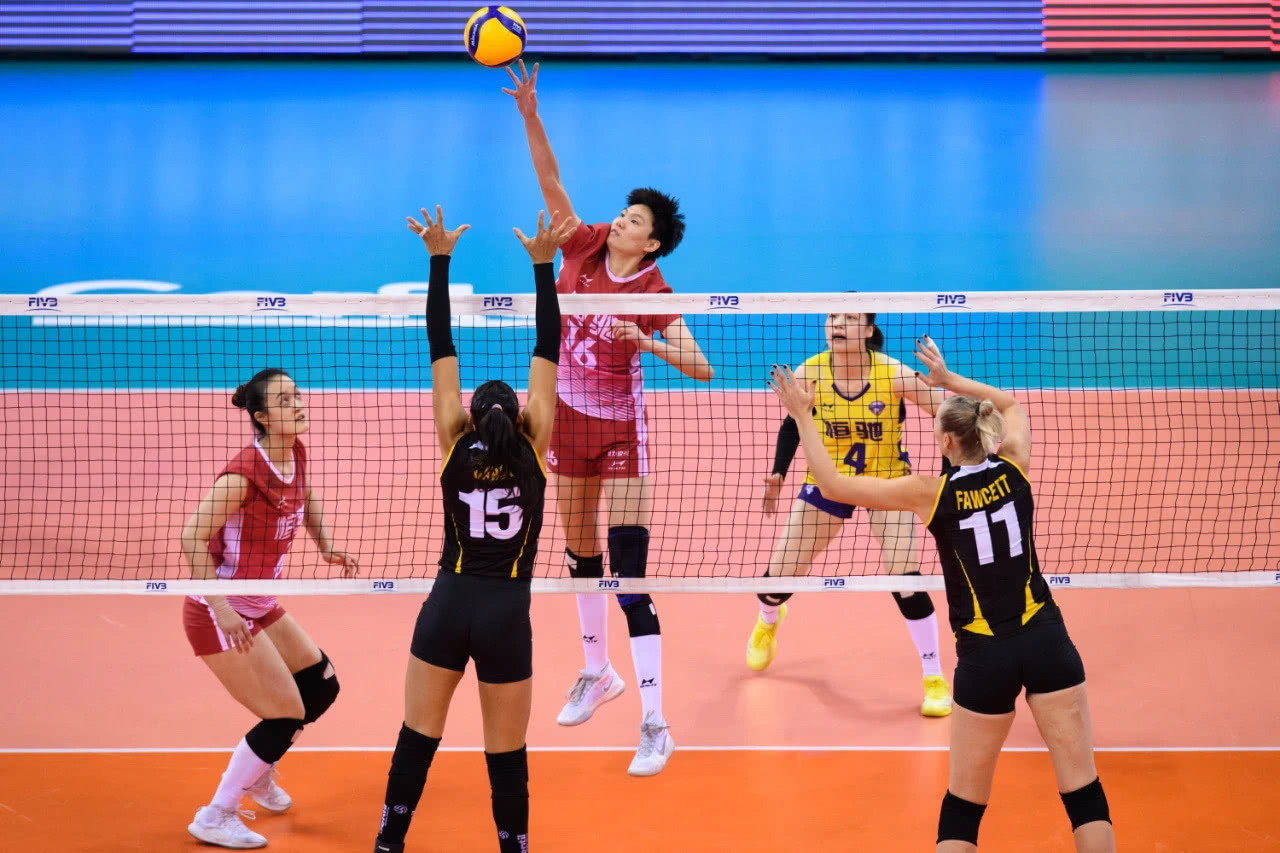ball: (463, 4, 527, 67)
